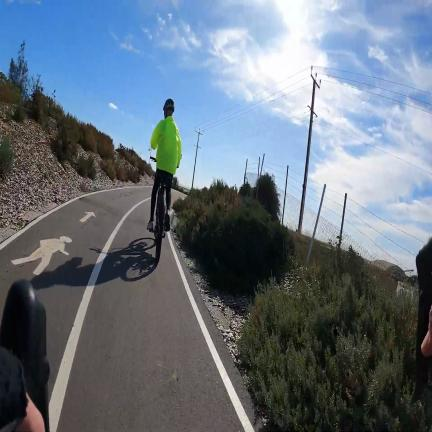Bike_Lane: (0, 186, 242, 432)
